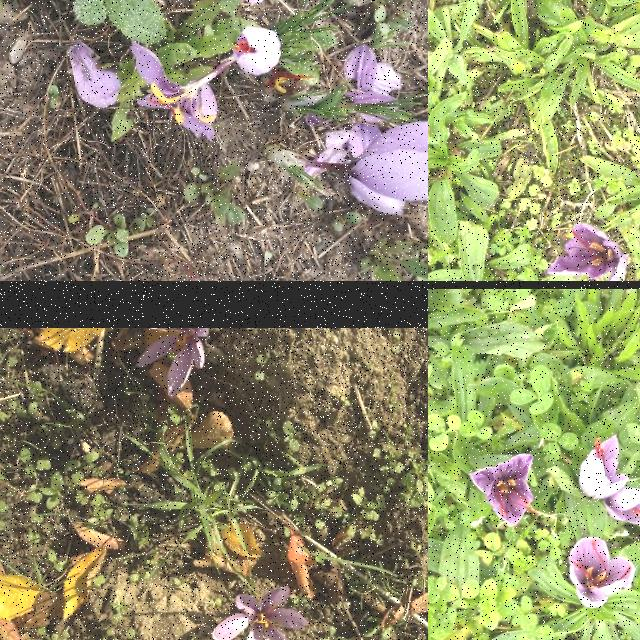flower: (349, 120, 428, 201), (211, 586, 308, 640), (469, 453, 538, 527), (136, 328, 208, 398), (547, 223, 629, 281), (570, 536, 636, 608), (578, 436, 628, 500), (234, 27, 282, 75), (602, 487, 640, 525)
